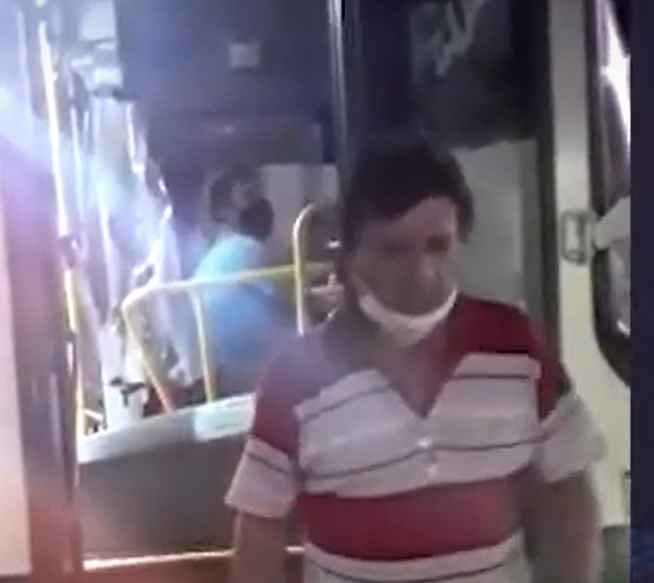mask_weared_incorrect: (325, 170, 478, 362)
